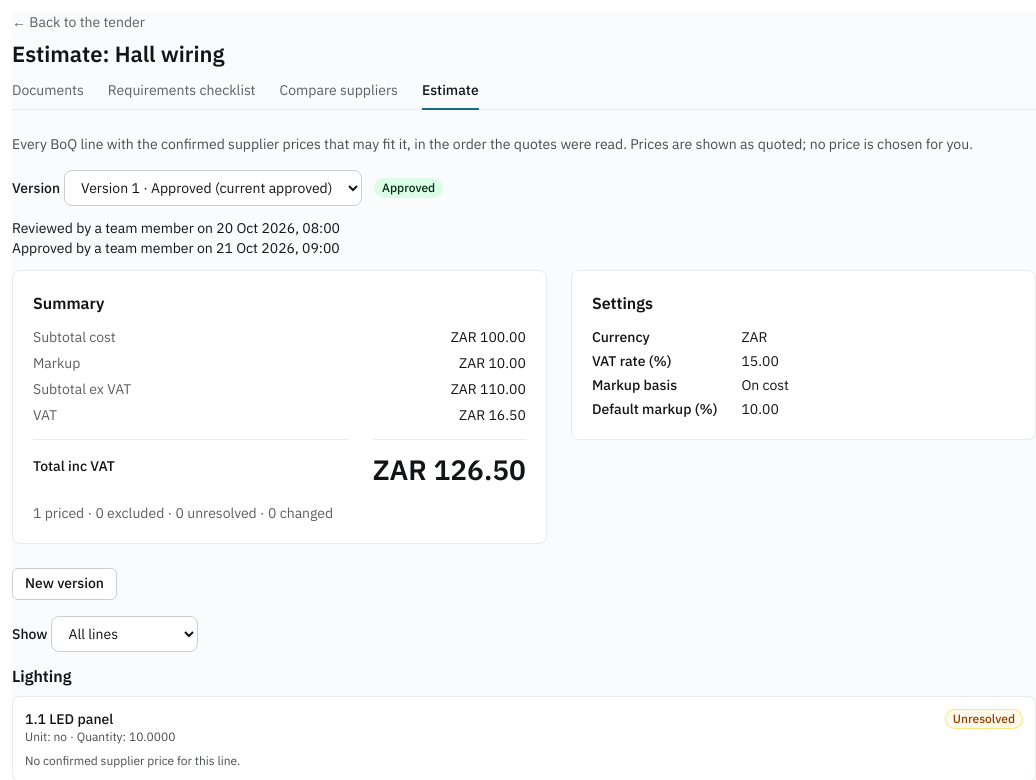
Test: status actions › explains missing pricing defaults when creating a new version
Click the button "New version" at (64, 584), box [12, 568, 117, 600]
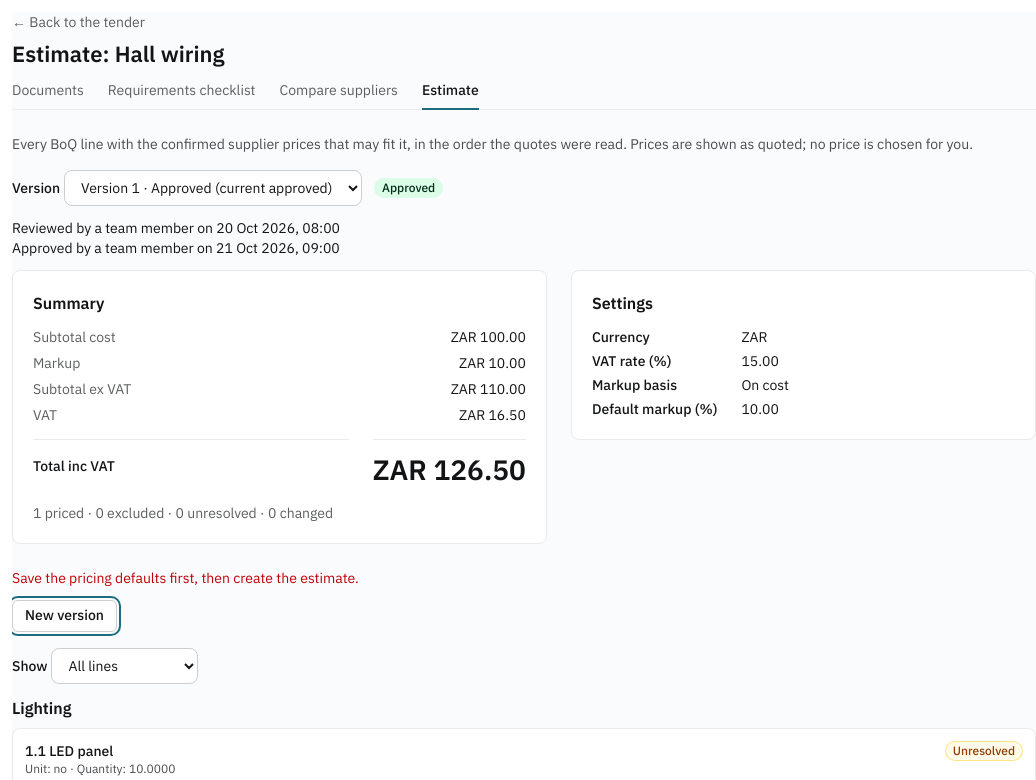
Expected: the text "Save the pricing defaults first, then create the estimate." is shown, [12, 568, 359, 586]
